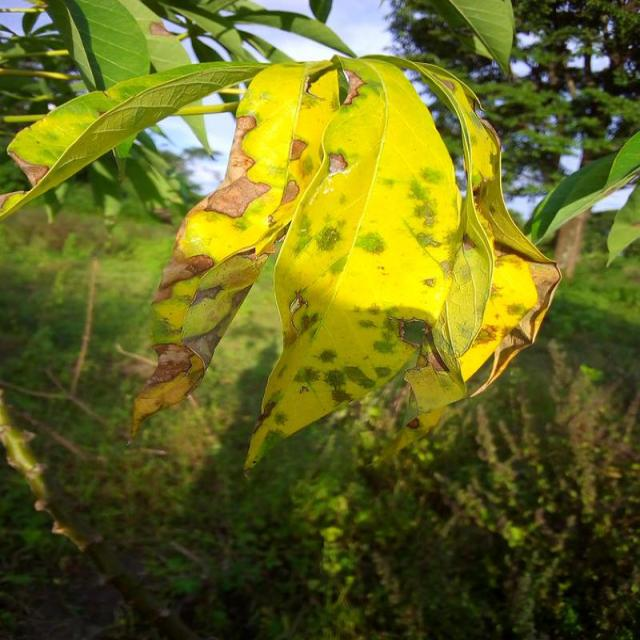cassava leaf: (130, 52, 560, 474)
